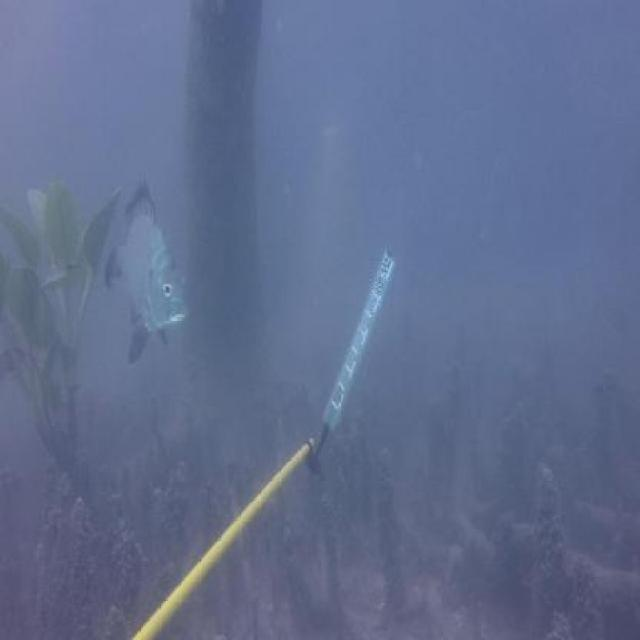acanthopagrus_palmaris: (102, 178, 189, 373)
